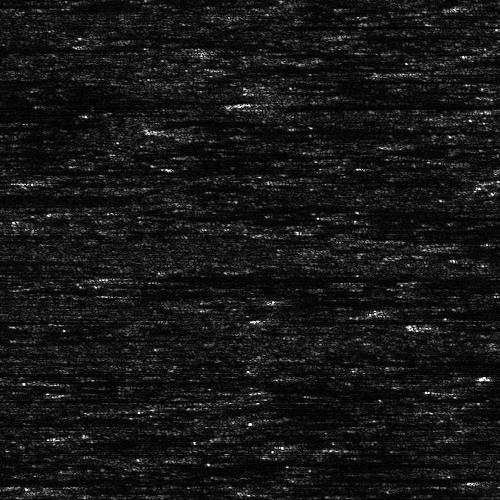rock: (0, 481, 122, 496), (0, 162, 72, 179), (138, 122, 231, 135), (24, 376, 117, 387), (208, 99, 291, 110), (0, 471, 45, 488), (212, 432, 265, 441), (332, 29, 385, 38), (229, 486, 292, 493), (354, 210, 395, 219), (180, 63, 243, 68), (294, 473, 347, 478), (6, 178, 59, 183), (158, 153, 211, 158), (57, 498, 172, 500), (251, 317, 292, 322), (0, 97, 21, 102), (126, 274, 157, 277)
shadow: (0, 162, 291, 179), (71, 376, 467, 387), (0, 471, 254, 488), (185, 122, 429, 135), (44, 481, 198, 496), (250, 99, 417, 110), (239, 432, 401, 441), (0, 41, 116, 52), (6, 97, 244, 102), (212, 63, 379, 68), (272, 317, 437, 322), (321, 473, 483, 478), (359, 29, 445, 38), (375, 210, 460, 219), (0, 339, 91, 346), (261, 486, 341, 493), (0, 258, 63, 265), (185, 153, 266, 158), (33, 178, 112, 183), (0, 462, 42, 471), (115, 498, 271, 500), (142, 274, 221, 277)
